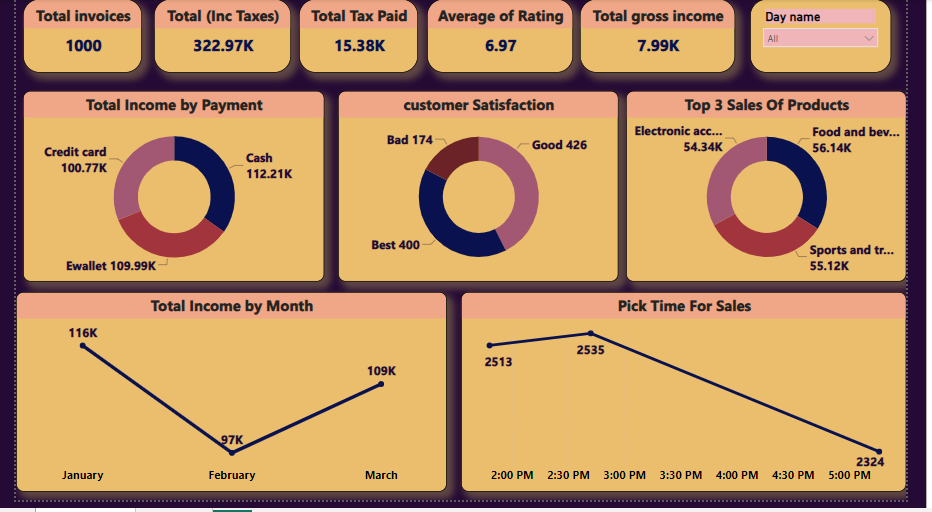

What the dashboard file says about the page in this screenshot:
{"tool":"powerbi","page":{"name":"Dashboard","canvas":[1280,720],"ordinal":0},"visuals":[{"type":"donutChart","title":" Total  Income by Payment","fields":{"Category":["supermarket_sales.Payment"],"Y":["Sum(supermarket_sales.Total)"]},"box":[10,132.9,432.9,274.3],"z":0},{"type":"donutChart","title":"customer Satisfaction","fields":{"Category":["supermarket_sales.Customer Behvior"],"Y":["CountNonNull(supermarket_sales.Invoice ID)"]},"box":[462.9,132.9,402.9,274.3],"z":1000},{"type":"donutChart","title":"Top 3 Sales Of Products  ","fields":{"Y":["Sum(supermarket_sales.Total)"],"Category":["supermarket_sales.Product line"]},"box":[877.1,132.9,402.9,274.3],"z":2000},{"type":"card","title":"Total gross income","fields":{"Values":["Sum(supermarket_sales.gross income)"]},"box":[810,0,222.9,105.7],"z":3000},{"type":"card","title":"Total (Inc Taxes)","fields":{"Values":["Sum(supermarket_sales.Total)"]},"box":[198.6,0,197.1,105.7],"z":4000},{"type":"card","title":"Total Tax Paid","fields":{"Values":["Sum(supermarket_sales.Tax 5%)"]},"box":[407.1,0,171.4,105.7],"z":5000},{"type":"card","title":"Average of Rating","fields":{"Values":["Avg(supermarket_sales.Rating)"]},"box":[590,0,210,105.7],"z":6000},{"type":"lineChart","title":"Pick Time For Sales ","fields":{"Category":["supermarket_sales.Time"],"Y":["Sum(supermarket_sales.Total)"]},"box":[640,421.4,640,287.1],"z":7000},{"type":"lineChart","title":"Total Income by Month","fields":{"Y":["Sum(supermarket_sales.Total)"],"Category":["supermarket_sales.Date.Variation.Date Hierarchy.Month"]},"box":[0,421.4,618.6,287.1],"z":8000},{"type":"card","title":"Total  invoices","fields":{"Values":["CountNonNull(supermarket_sales.Invoice ID)"]},"box":[10,0,171.4,105.7],"z":9000},{"type":"slicer","fields":{"Values":["supermarket_sales.Day name"]},"box":[1054.3,0,202.9,105.7],"z":10000}]}

Visuals, with their boxes in screenshot pixels (x1, y1, x2, y2), scaled from the page's 1280x720 canvas onto the 932x512 screenshot:
" Total  Income by Payment" donutChart: box(7, 95, 322, 290)
"customer Satisfaction" donutChart: box(337, 95, 630, 290)
"Top 3 Sales Of Products  " donutChart: box(639, 95, 931, 290)
"Total gross income" card: box(590, 0, 752, 75)
"Total (Inc Taxes)" card: box(145, 0, 288, 75)
"Total Tax Paid" card: box(296, 0, 421, 75)
"Average of Rating" card: box(430, 0, 582, 75)
"Pick Time For Sales " lineChart: box(466, 300, 931, 504)
"Total Income by Month" lineChart: box(0, 300, 450, 504)
"Total  invoices" card: box(7, 0, 132, 75)
slicer - supermarket_sales.Day name: box(768, 0, 915, 75)
